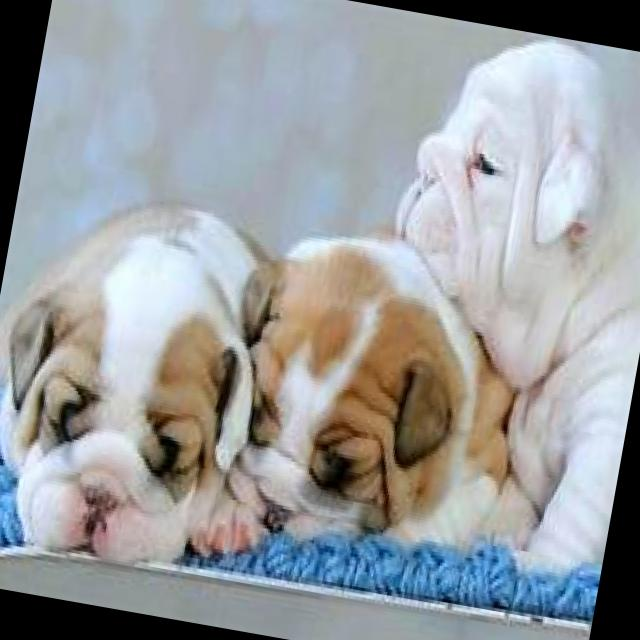animal: (0, 137, 283, 610), (205, 260, 505, 599), (362, 25, 640, 340)
